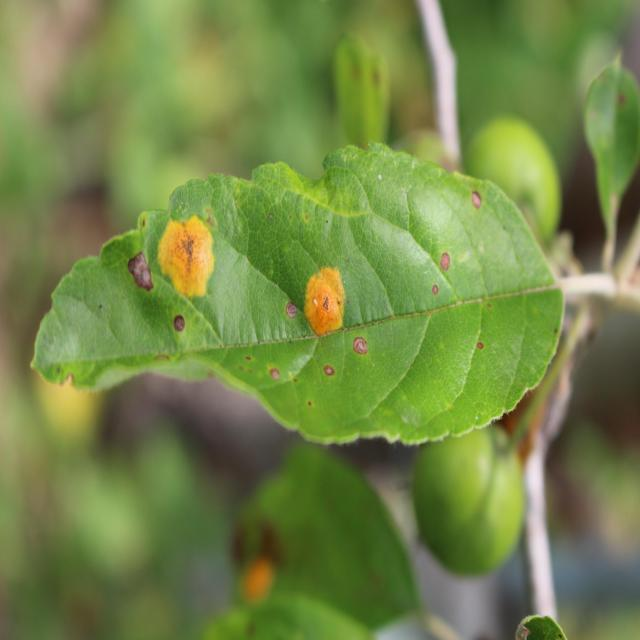Rust: (151, 202, 232, 304), (299, 243, 348, 354)
